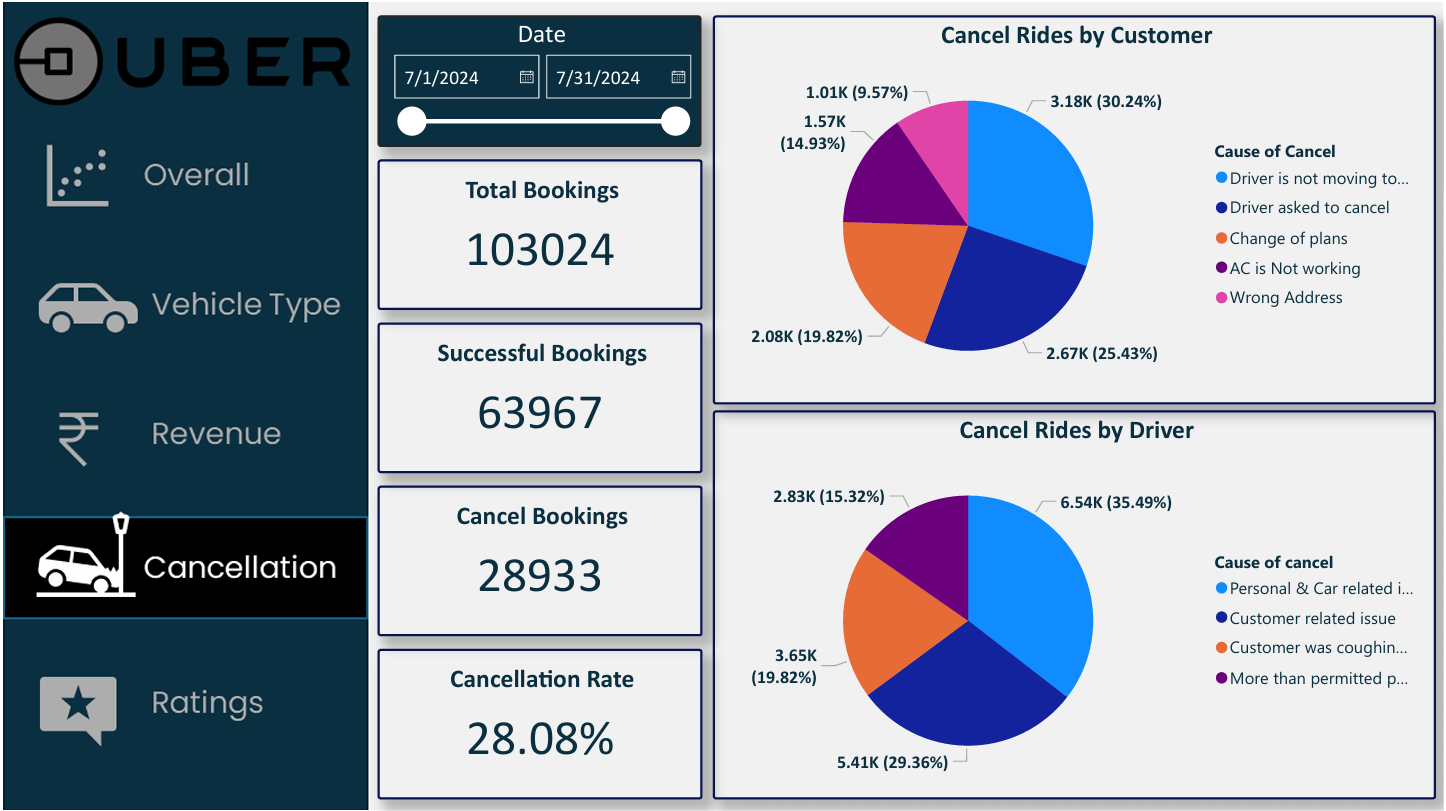

This screenshot's page, from the dashboard's own definition file:
{"tool":"powerbi","page":{"name":"Cancellation","canvas":[1280,720],"ordinal":3},"visuals":[{"type":"actionButton","box":[0,112.5,322.5,89.2],"z":0},{"type":"actionButton","box":[0,230.5,322.5,89.2],"z":1000},{"type":"actionButton","box":[0,341.7,322.5,89.2],"z":2000},{"type":"actionButton","box":[0,573.6,322.5,89.2],"z":3000},{"type":"pieChart","title":"Cancel Rides by Customer","fields":{"Category":["Bookings.Canceled_Rides_by_Customer"],"Y":["CountNonNull(Bookings.Canceled_Rides_by_Customer)"]},"box":[629.8,11,643.6,345.8],"z":4000},{"type":"pieChart","title":"Cancel Rides by Driver","fields":{"Category":["Bookings.Canceled_Rides_by_Driver"],"Y":["CountNonNull(Bookings.Canceled_Rides_by_Driver)"]},"box":[630,361.8,642.5,346.2],"z":5000},{"type":"slicer","title":"Date ","fields":{"Values":["Bookings.Date"]},"box":[332.1,11,288.2,116.6],"z":6000},{"type":"card","title":"Total Bookings","fields":{"Values":["CountNonNull(Bookings.Booking_ID)"]},"box":[332.2,138.6,288.5,134.1],"z":7000},{"type":"card","title":"Successful  Bookings","fields":{"Values":["CountNonNull(Bookings.Booking_ID)"]},"box":[332.2,283.7,288.5,134.1],"z":8000},{"type":"card","title":"Cancel  Bookings","fields":{"Values":["CountNonNull(Bookings.Booking_ID)"]},"box":[332.2,428.8,288.5,134.1],"z":9000},{"type":"card","title":"Cancellation Rate","fields":{"Values":["Bookings.CancelParcentage"]},"box":[332.2,573.9,288.5,134.1],"z":10000}]}

Visuals, with their boxes in screenshot pixels (x1, y1, x2, y2), scaled from the page's 1280x720 canvas onto the 1446x811 screenshot:
actionButton: [left=0, top=127, right=364, bottom=227]
actionButton: [left=0, top=260, right=364, bottom=360]
actionButton: [left=0, top=385, right=364, bottom=485]
actionButton: [left=0, top=646, right=364, bottom=747]
"Cancel Rides by Customer" pieChart: [left=711, top=12, right=1439, bottom=402]
"Cancel Rides by Driver" pieChart: [left=712, top=408, right=1438, bottom=797]
"Date " slicer: [left=375, top=12, right=701, bottom=144]
"Total Bookings" card: [left=375, top=156, right=701, bottom=307]
"Successful  Bookings" card: [left=375, top=320, right=701, bottom=471]
"Cancel  Bookings" card: [left=375, top=483, right=701, bottom=634]
"Cancellation Rate" card: [left=375, top=646, right=701, bottom=797]
